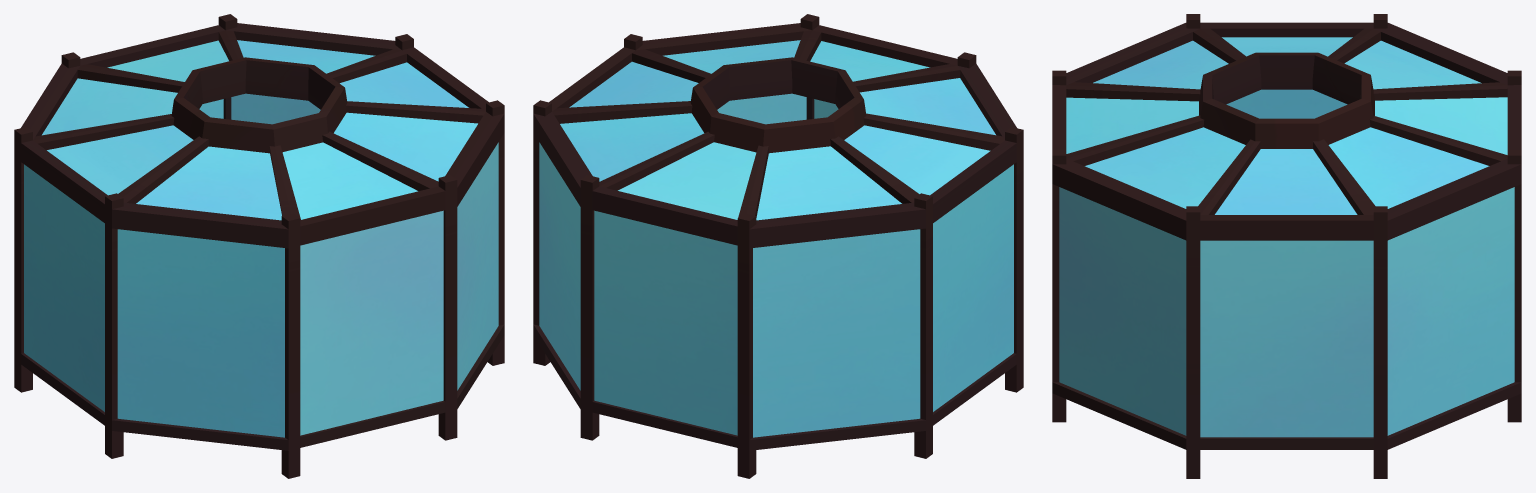
File: soumatou_4_blue.fbx
3 views of the same model, side by side, from view 1: azimuth 30°, elevation 25°; view 2: azimuth 150°, elevation 25°; view 3: azimuth 270°, elevation 25° (orthographic). The views are drawn at different scales.
Visible parts, largest first — view 1: soumatou4; view 2: soumatou4; view 3: soumatou4.
Part boxes in pixels (left/top/right/bottom): soumatou4: left=14, top=14, right=504, bottom=478; soumatou4: left=533, top=14, right=1023, bottom=478; soumatou4: left=1052, top=14, right=1521, bottom=478.
Size of the model in its own units: 0.5004 by 0.3448 by 0.5004.
2 materials, 2 textured.
